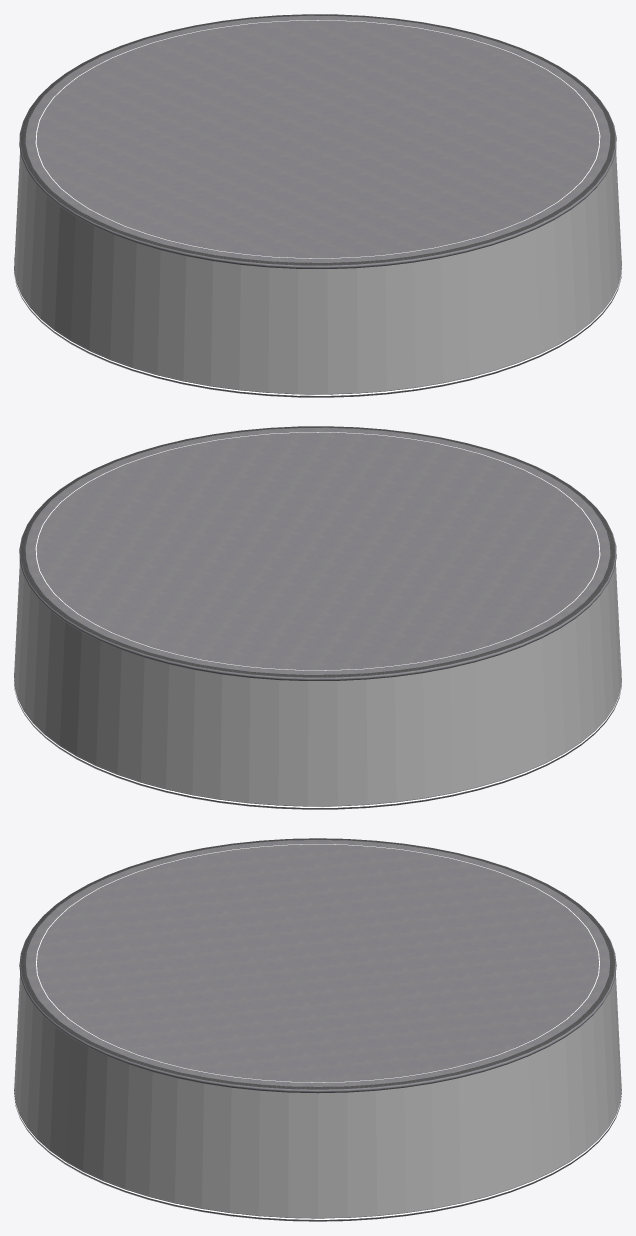
File: SM_Building04a.fbx
3 views of the same model, one above another, from view 1: azimuth 30°, elevation 25°; view 2: azimuth 150°, elevation 25°; view 3: azimuth 270°, elevation 25° (orthographic).
Parts seen in each view (by area): view 1: SM_Building04a, SM_Building04a_ConvexHulls; view 2: SM_Building04a, SM_Building04a_ConvexHulls; view 3: SM_Building04a, SM_Building04a_ConvexHulls.
Part boxes in pixels (bbox=[...]): SM_Building04a: bbox=[14, 14, 621, 397]; SM_Building04a_ConvexHulls: bbox=[14, 150, 621, 393]; SM_Building04a: bbox=[14, 426, 621, 809]; SM_Building04a_ConvexHulls: bbox=[14, 562, 621, 805]; SM_Building04a: bbox=[14, 838, 621, 1221]; SM_Building04a_ConvexHulls: bbox=[14, 973, 621, 1217].
Size of the model in its own units: 8446 by 8446 by 2000.
Materials: 3 (2 with a texture image).
